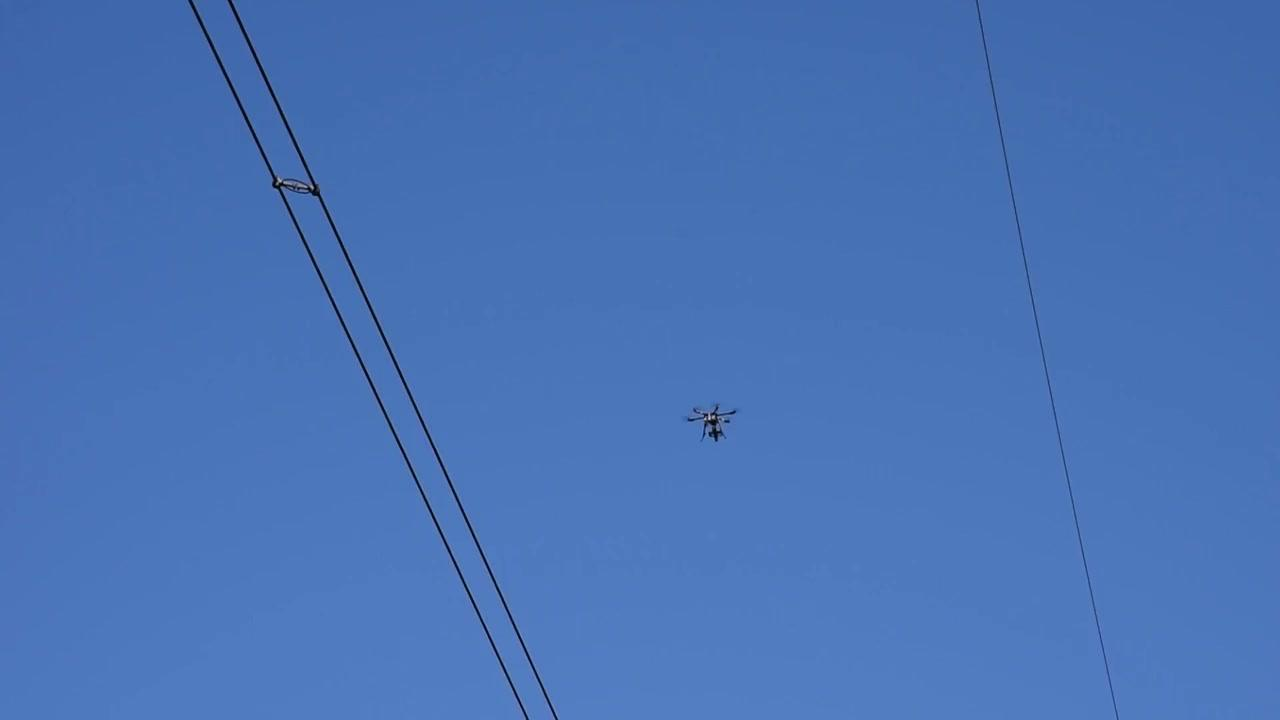UAV: (682, 404, 742, 443)
